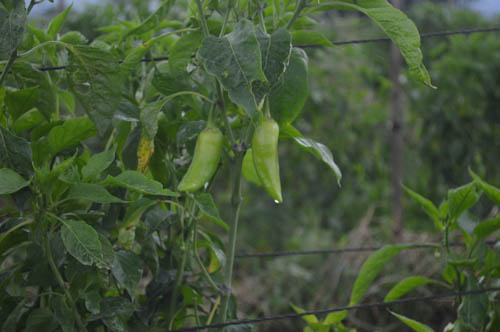ChiliPepper: (178, 128, 223, 195), (253, 118, 284, 200)
